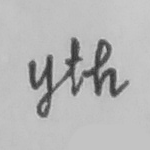h: (90, 37, 121, 100)
t: (61, 35, 86, 98)
y: (26, 52, 56, 119)
